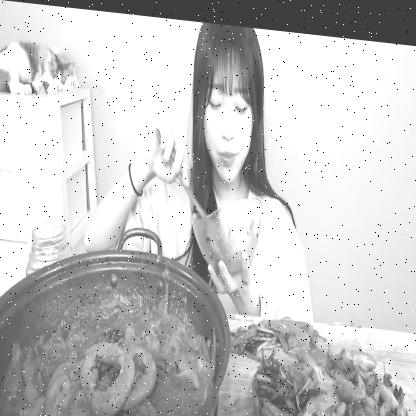streamer: (86, 7, 314, 313)
